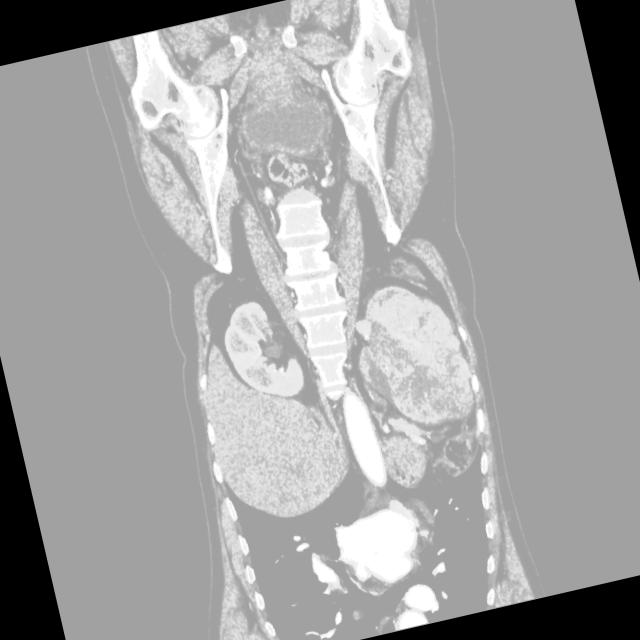TUMOR: (97, 235, 466, 501)
